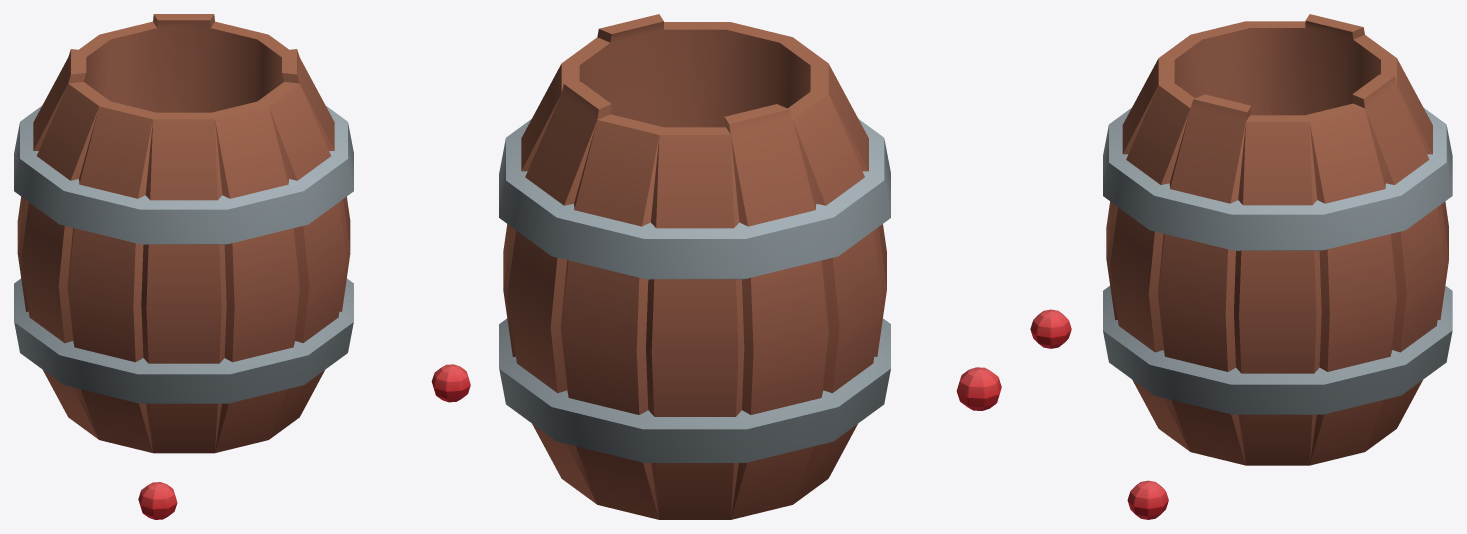
File: apple_barrel_10.glb
The picture shows the model from 3 angles, left to right: view 1: azimuth 30°, elevation 25°; view 2: azimuth 150°, elevation 25°; view 3: azimuth 270°, elevation 25°; orthographic projection. The views are drawn at different scales.
Parts seen in each view (by area): view 1: apple_barrel_10; view 2: apple_barrel_10; view 3: apple_barrel_10.
Part boxes in pixels (box(x1,y1,x2,y2)): apple_barrel_10: box(14, 14, 470, 519); apple_barrel_10: box(499, 14, 1001, 519); apple_barrel_10: box(1030, 14, 1452, 519).
Size of the model in its own units: 1.38 by 1.2 by 1.3.
2 materials, 2 textured.
